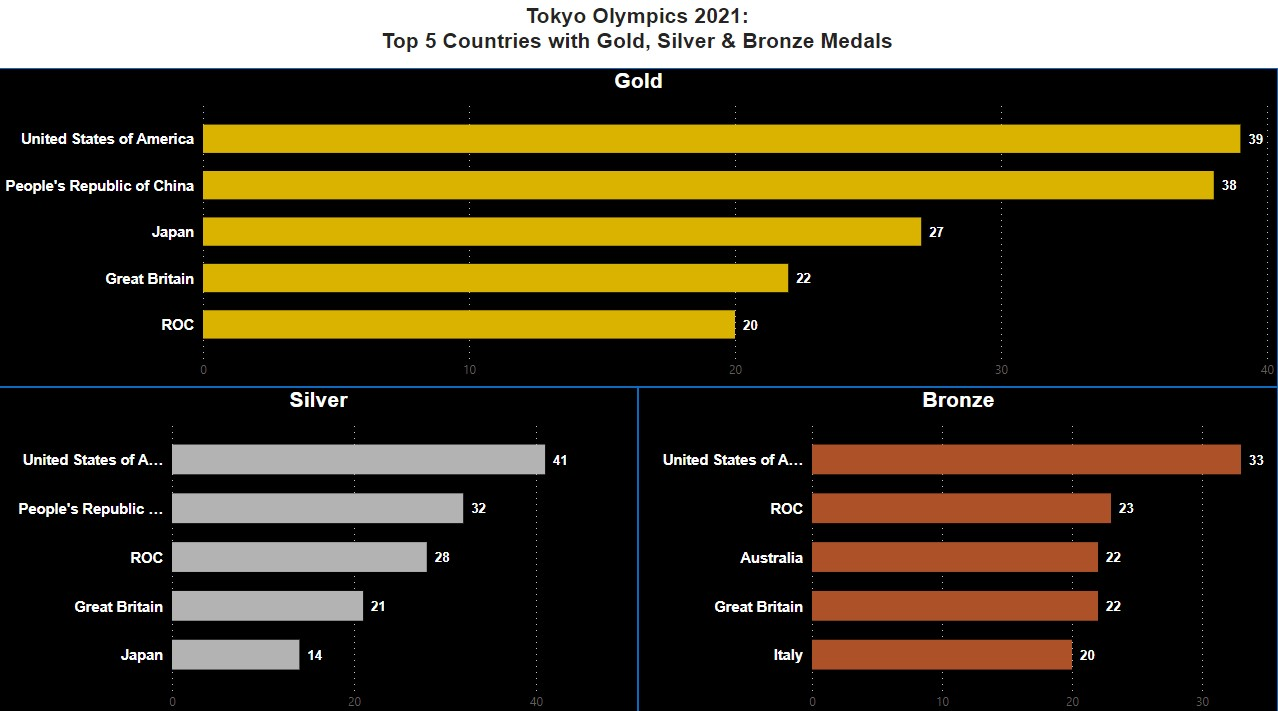

The dashboard page shown, as its layout file describes it:
{"tool":"powerbi","page":{"name":"Countries_Medal","canvas":[1280,720],"ordinal":1},"visuals":[{"type":"barChart","title":"Gold","fields":{"Category":["medals.Team_NOC"],"Y":["Sum(medals.Gold)"]},"box":[0,69,1280,319],"z":0},{"type":"barChart","title":"Silver","fields":{"Category":["medals.Team_NOC"],"Y":["Sum(medals.Silver)"]},"box":[0,388,640,332],"z":1000},{"type":"barChart","title":"Bronze","fields":{"Category":["medals.Team_NOC"],"Y":["Sum(medals.Bronze)"]},"box":[640,388,640,332],"z":2000},{"type":"textbox","box":[129,0,1021,60],"z":3000}]}

Visuals, with their boxes in screenshot pixels (x1, y1, x2, y2), scaled from the page's 1280x720 canvas onto the 1278x711 screenshot:
"Gold" barChart: <region>0, 68, 1277, 383</region>
"Silver" barChart: <region>0, 383, 639, 710</region>
"Bronze" barChart: <region>639, 383, 1277, 710</region>
textbox: <region>129, 0, 1148, 59</region>
